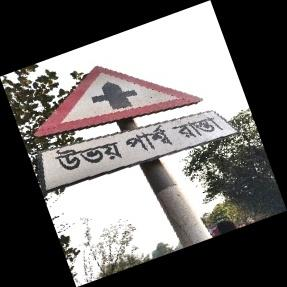Crossroad: (33, 66, 235, 195)
